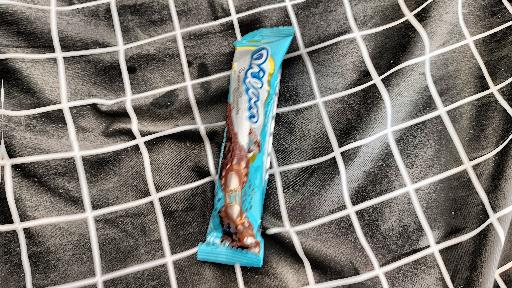dilan: (186, 26, 298, 281)
